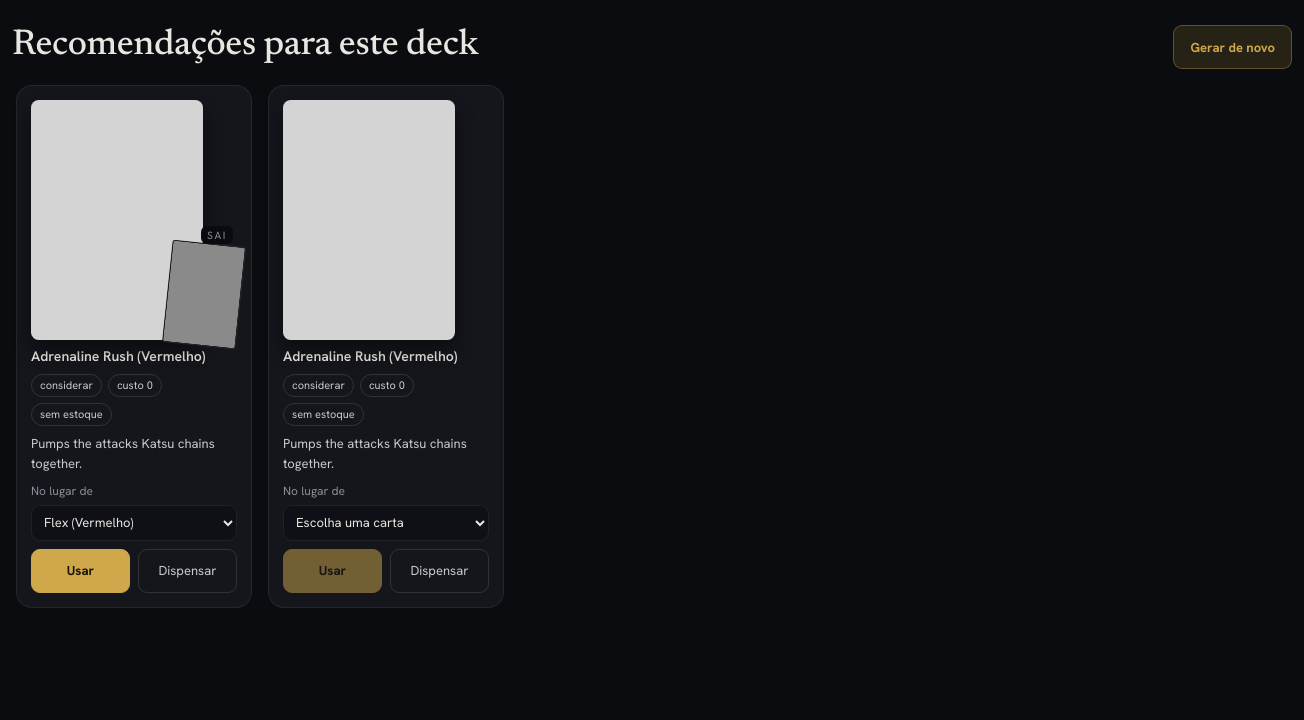
Test: RecommendationsRail › Usar adopts with the chosen cut
Expected: the button with aria-label "Usar Adrenaline Rush no deck" is disabled, [283,548,382,592]
Select "Emissary of Tides (Vermelho)" in the dropdown with test id "recommendation-cut-select" below "sai" at (134, 522), box [31,504,237,540]
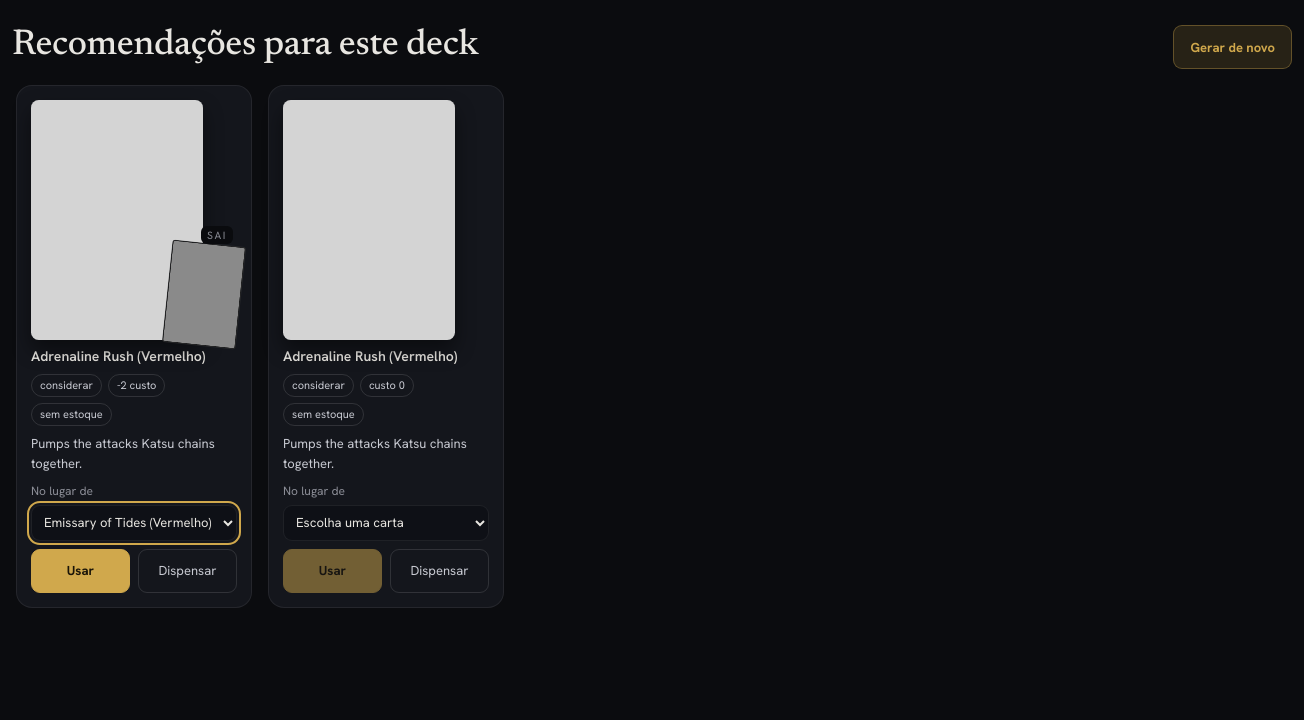
Click the button with aria-label "Usar Adrenaline Rush no deck" at (80, 570), box [31,548,130,592]
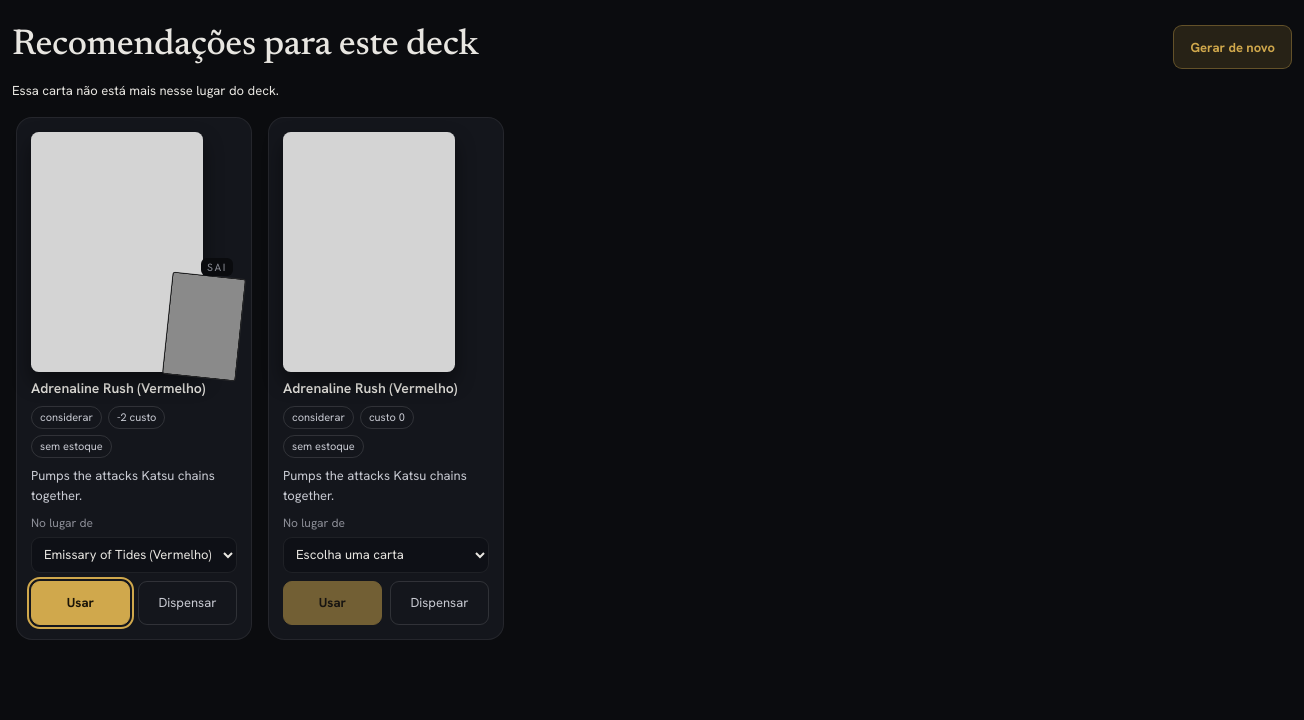
Result: the message with test id "recommendations-action-error" reads "Essa carta não está mais nesse lugar do deck." at [12,82,279,99]
